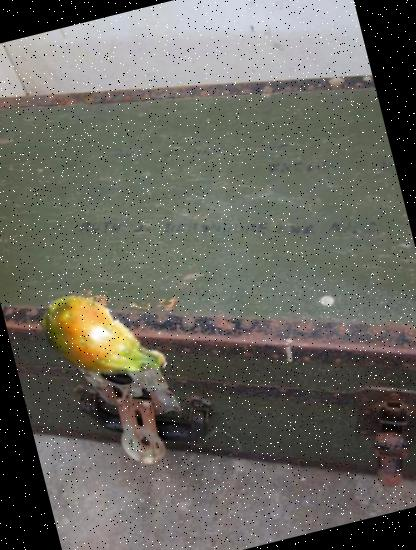Cactus: (22, 264, 183, 424)
